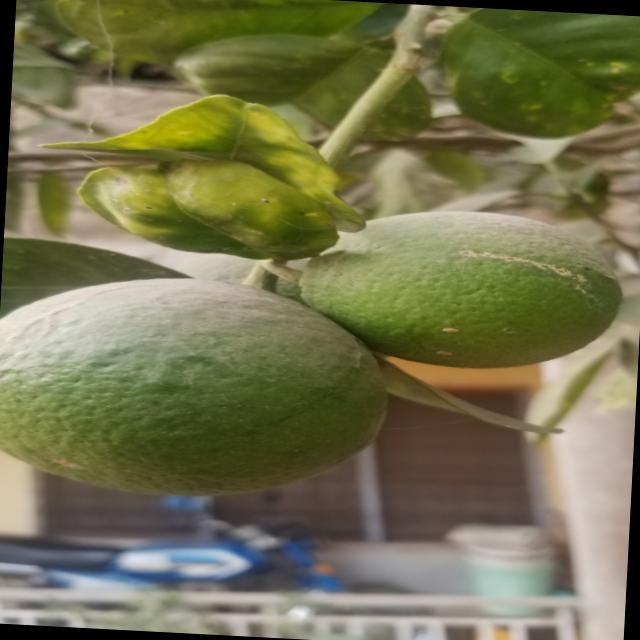agrume: (0, 263, 391, 513), (304, 205, 620, 378)
